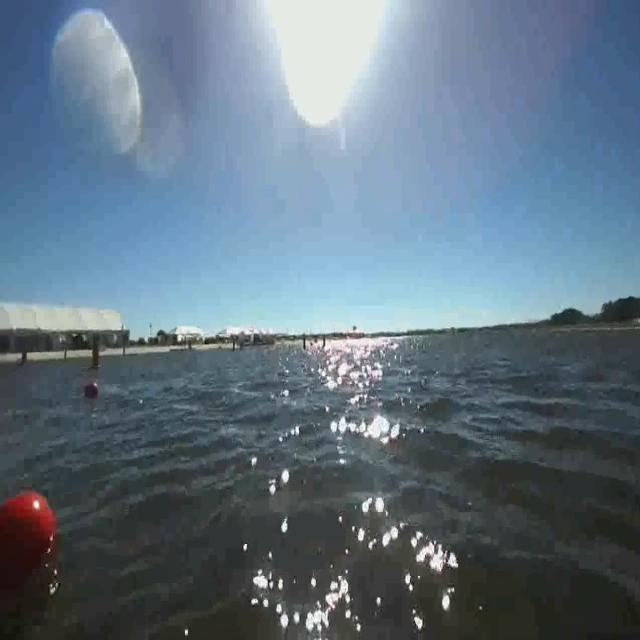red-buoy: (2, 490, 56, 570), (86, 384, 99, 397)
